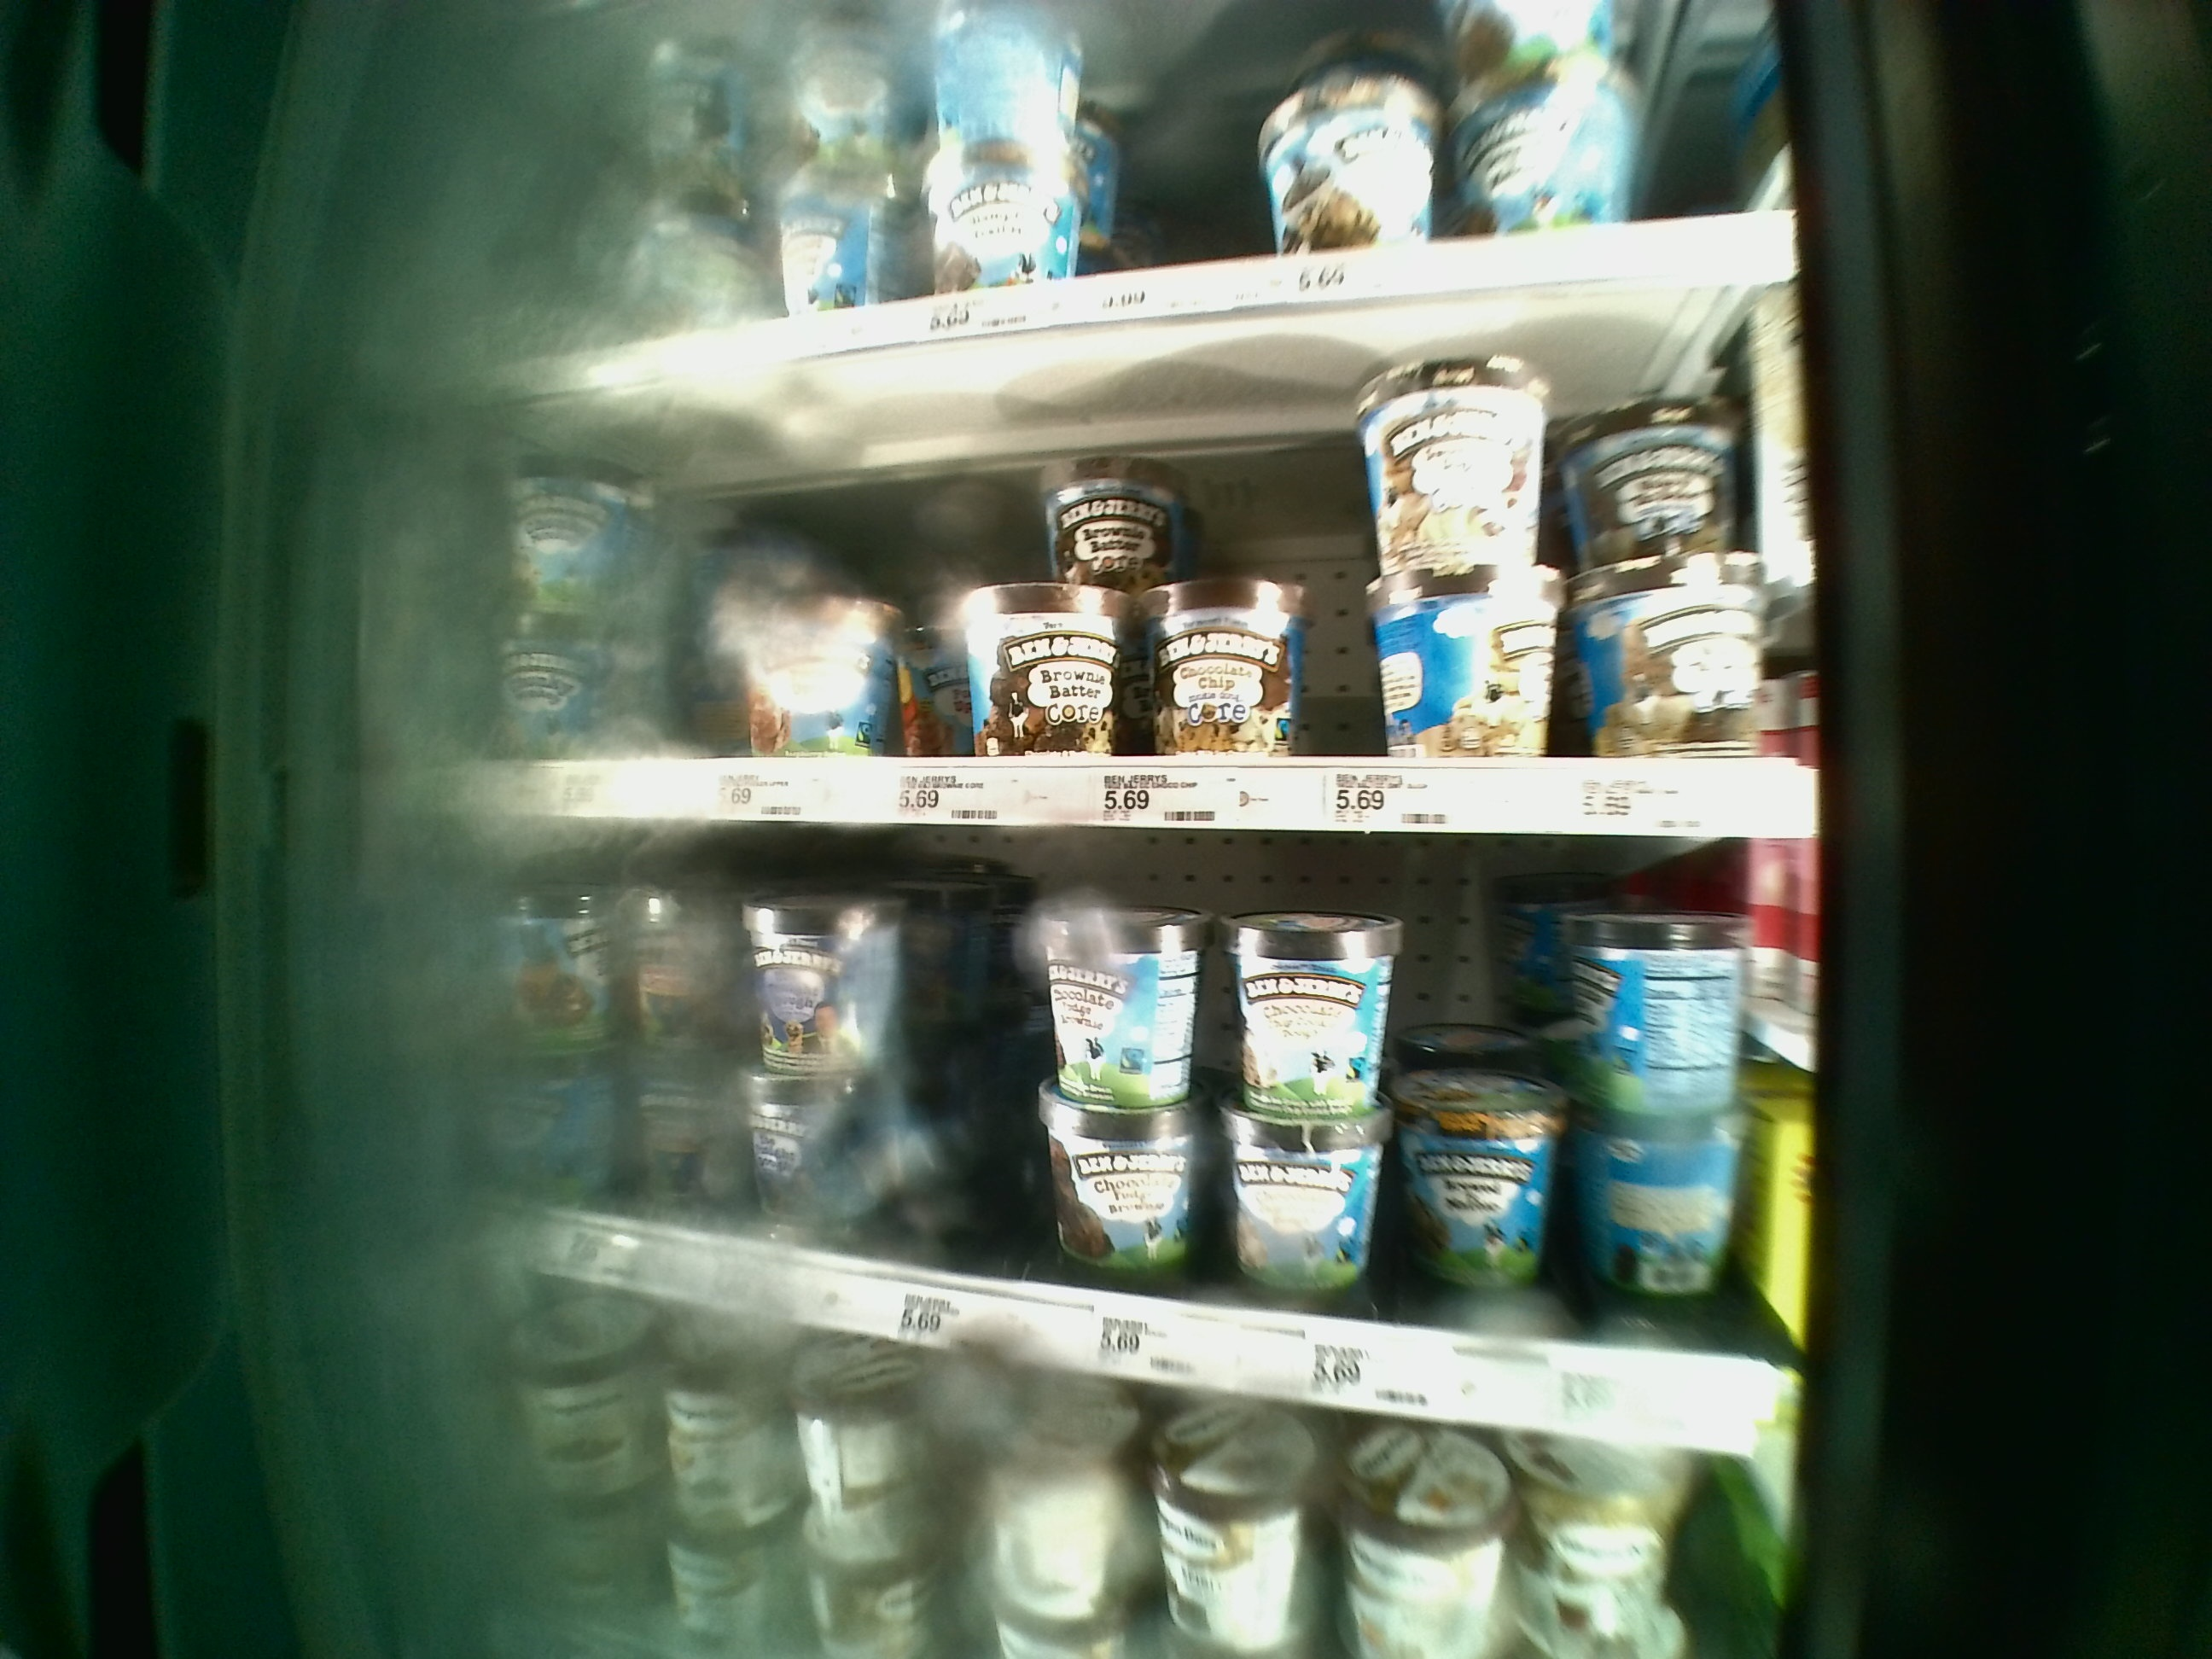shelf: (432, 823, 1815, 1464), (428, 279, 1811, 828)
